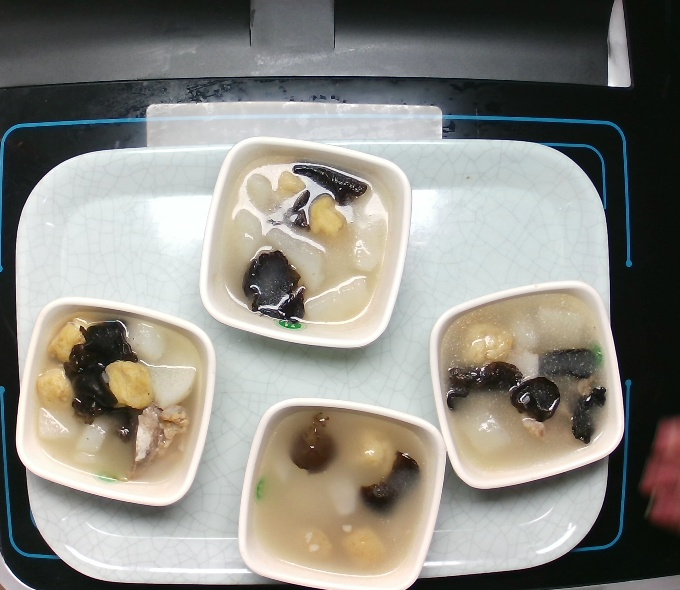wcq-ShanYaoTang: (213, 147, 399, 331), (436, 289, 615, 480), (248, 404, 437, 582), (32, 307, 206, 490)
